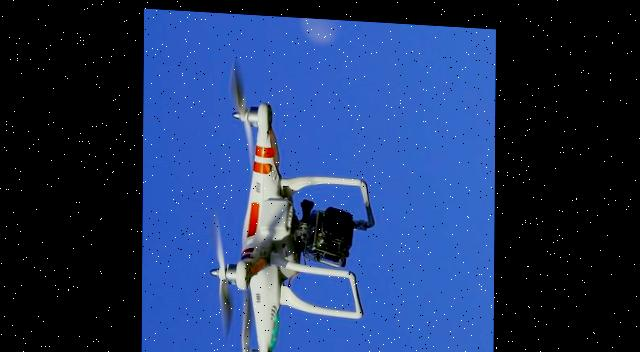drone: (188, 30, 382, 352)
